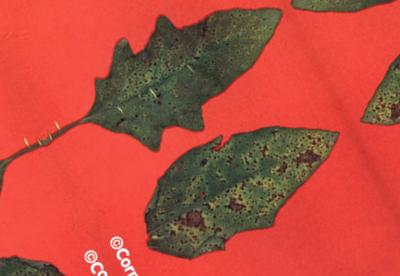Tomato Septoria leaf spot: (114, 79, 375, 276), (47, 0, 315, 184)
